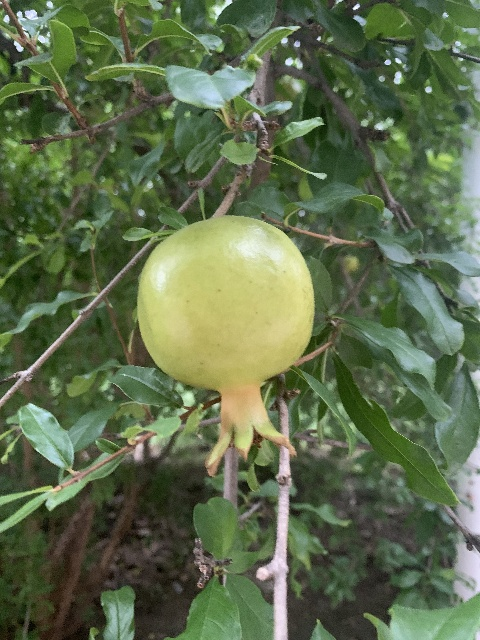mid-growth: (137, 215, 314, 477)
